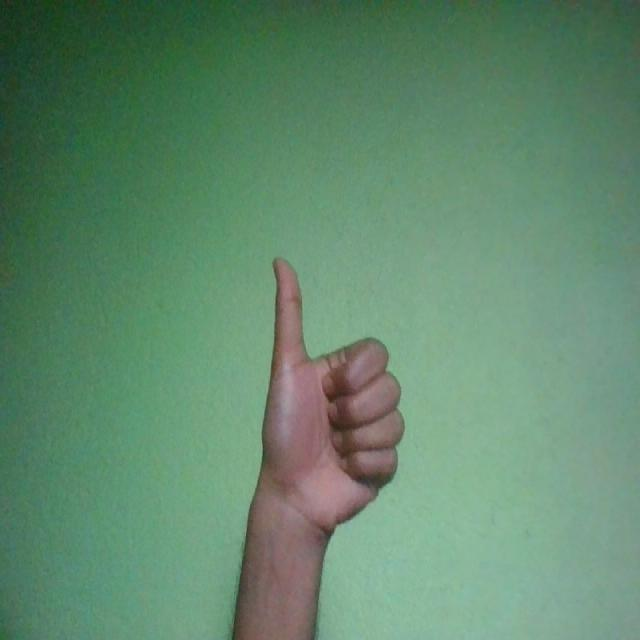Good Job: (262, 256, 405, 536)
